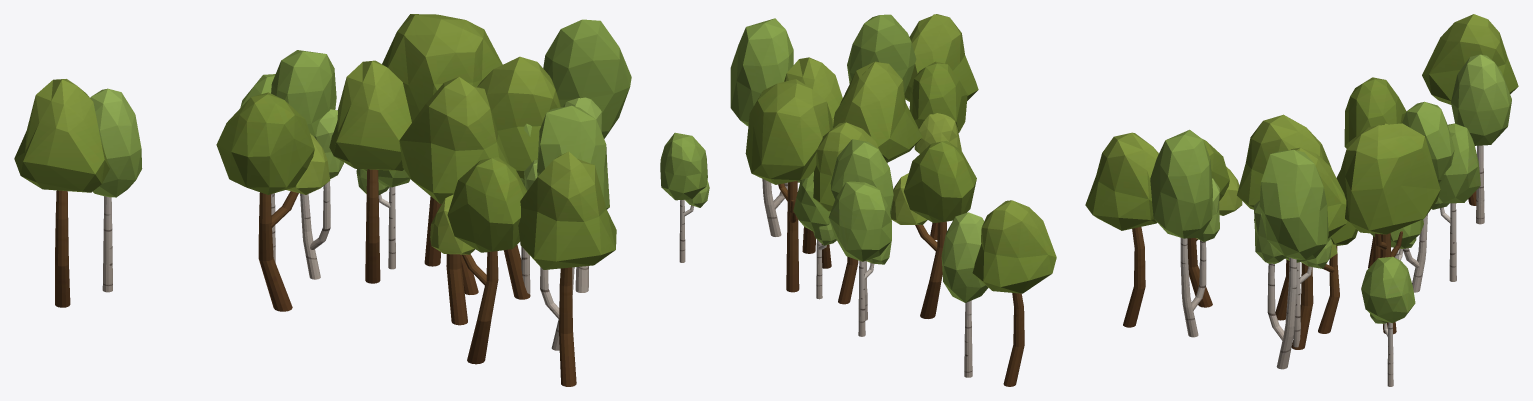
File: Trees10.gltf
The picture shows the model from 3 angles, left to right: view 1: azimuth 30°, elevation 25°; view 2: azimuth 150°, elevation 25°; view 3: azimuth 270°, elevation 25°; orthographic projection. The views are drawn at different scales.
Visible parts, largest first — view 1: Beechtree2 - copy.017, Beechtree1 - copy.024, Beechtree1 - copy.045, Beechtree1 - copy.049, Beechtree2 - copy.005, Beechtree1 - copy.051, Beechtree3 - copy.017, BirchTree2 - copy.023, Beechtree1 - copy.038, BirchTree2 - copy.030, BirchTree1 - copy.048, BirchTree2 - copy.033 (+2 smaller); view 2: Beechtree3 - copy.017, Beechtree1 - copy.045, Beechtree2 - copy.017, Beechtree1 - copy.049, BirchTree2 - copy.023, BirchTree3 - copy.023, Beechtree2 - copy.005, BirchTree1 - copy.048, BirchTree3 - copy.028, BirchTree2 - copy.033, Beechtree1 - copy.024, Beechtree1 - copy.051 (+3 smaller); view 3: Beechtree3 - copy.017, BirchTree2 - copy.023, BirchTree2 - copy.033, Beechtree1 - copy.024, BirchTree1 - copy.048, Beechtree1 - copy.045, Beechtree1 - copy.049, BirchTree3 - copy.028, BirchTree3 - copy.023, BirchTree2 - copy.030, Beechtree2 - copy.017, Beechtree1 - copy.038 (+4 smaller).
Part boxes in pixels (bbox=[...]): Beechtree2 - copy.017: bbox=[216, 92, 330, 311]; Beechtree1 - copy.024: bbox=[518, 151, 616, 386]; Beechtree1 - copy.045: bbox=[14, 79, 109, 307]; Beechtree1 - copy.049: bbox=[399, 77, 509, 325]; Beechtree2 - copy.005: bbox=[430, 157, 526, 364]; Beechtree1 - copy.051: bbox=[329, 60, 411, 283]; Beechtree3 - copy.017: bbox=[382, 14, 502, 266]; BirchTree2 - copy.023: bbox=[543, 19, 631, 292]; Beechtree1 - copy.038: bbox=[477, 56, 560, 299]; BirchTree2 - copy.030: bbox=[271, 50, 343, 279]; BirchTree1 - copy.048: bbox=[90, 88, 142, 292]; BirchTree2 - copy.033: bbox=[524, 105, 609, 350]; Beechtree3 - copy.017: bbox=[745, 79, 832, 292]; Beechtree1 - copy.045: bbox=[972, 200, 1056, 386]; Beechtree2 - copy.017: bbox=[890, 140, 976, 318]; Beechtree1 - copy.049: bbox=[833, 61, 922, 162]; BirchTree2 - copy.023: bbox=[730, 18, 793, 236]; BirchTree3 - copy.023: bbox=[828, 181, 891, 336]; Beechtree2 - copy.005: bbox=[909, 61, 967, 239]; BirchTree1 - copy.048: bbox=[941, 212, 988, 377]; BirchTree3 - copy.028: bbox=[660, 132, 709, 262]; BirchTree2 - copy.033: bbox=[847, 14, 916, 163]; Beechtree1 - copy.024: bbox=[904, 14, 978, 101]; Beechtree1 - copy.051: bbox=[813, 122, 878, 304]; Beechtree3 - copy.017: bbox=[1336, 123, 1440, 334]; BirchTree2 - copy.023: bbox=[1254, 149, 1328, 369]; BirchTree2 - copy.033: bbox=[1150, 129, 1219, 337]; Beechtree1 - copy.024: bbox=[1085, 132, 1158, 327]; BirchTree1 - copy.048: bbox=[1451, 54, 1511, 224]; Beechtree1 - copy.045: bbox=[1422, 14, 1518, 205]; Beechtree1 - copy.049: bbox=[1237, 114, 1330, 320]; BirchTree3 - copy.028: bbox=[1361, 256, 1415, 386]; BirchTree3 - copy.023: bbox=[1431, 123, 1480, 281]; BirchTree2 - copy.030: bbox=[1402, 101, 1454, 292]; Beechtree2 - copy.017: bbox=[1344, 77, 1406, 268]; Beechtree1 - copy.038: bbox=[1254, 147, 1347, 349].
Bounding box in the file's own units: 24.21 × 11.52 × 20.5.
6 materials, 6 textured.
